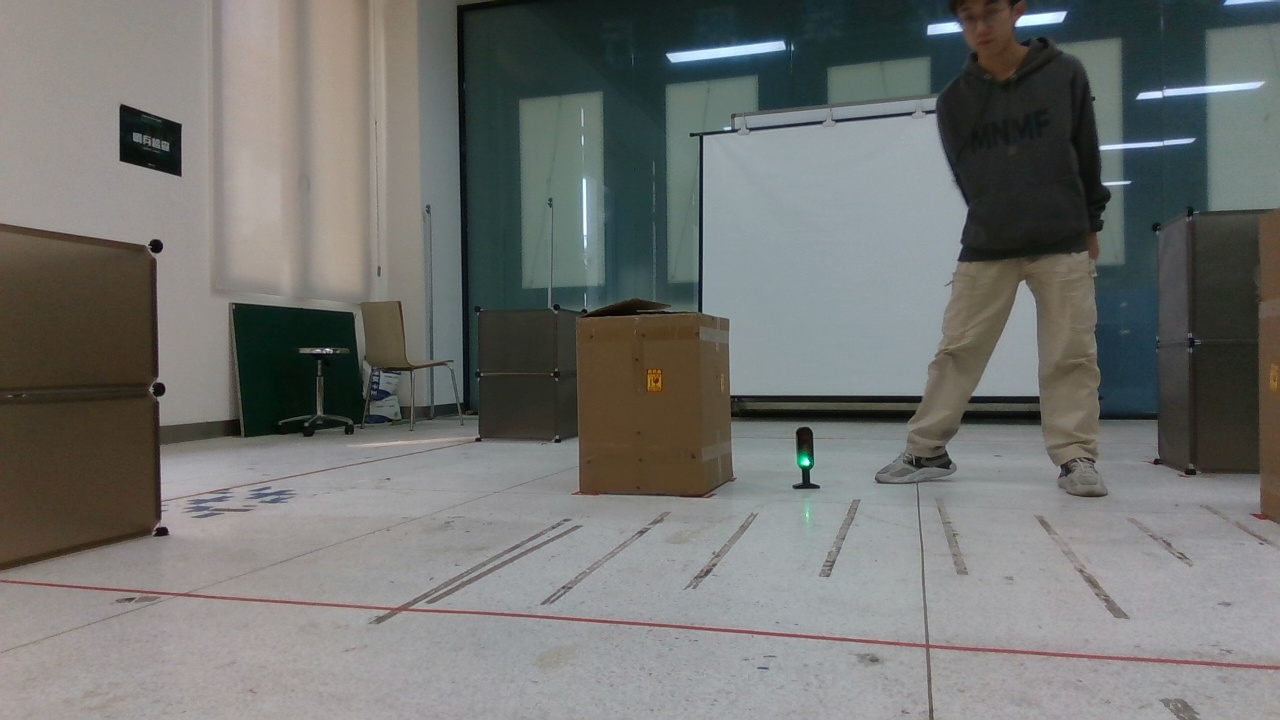green_light: (783, 415, 828, 502)
